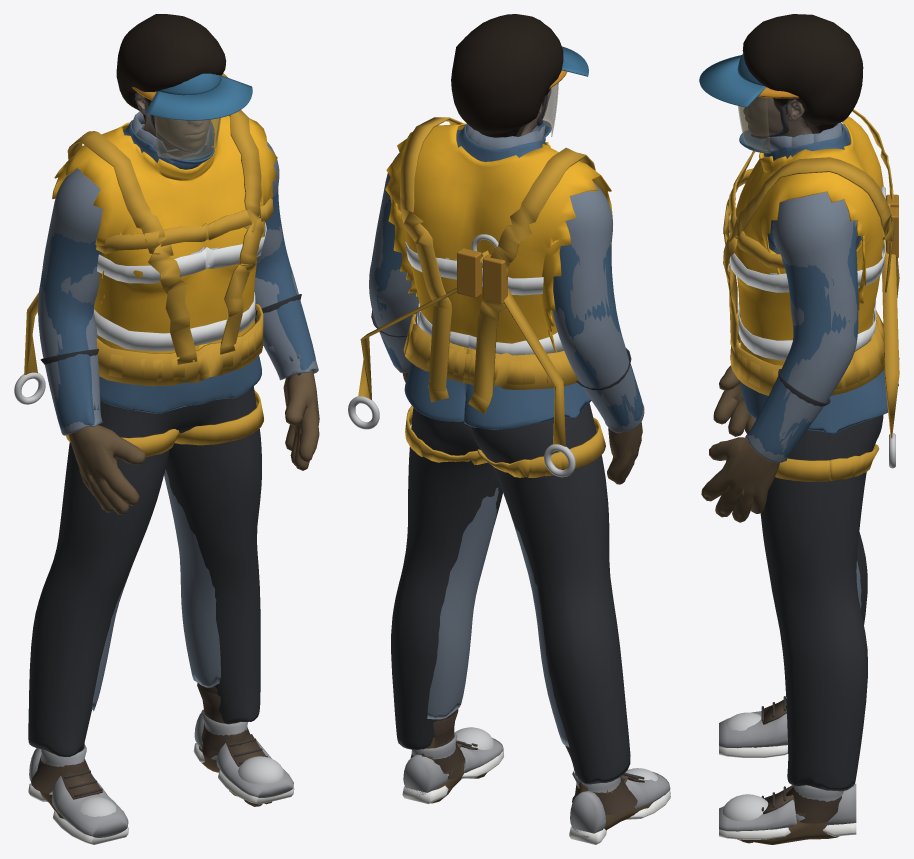
File: personagem.glb
The picture shows the model from 3 angles, left to right: view 1: azimuth 30°, elevation 25°; view 2: azimuth 150°, elevation 25°; view 3: azimuth 270°, elevation 25°; orthographic projection.
Parts seen in each view (by area): view 1: epi_base_roupa, epi_colete_refletivo, epi_paraquedista_talabarte, epi_camisa_algodao, epi_luva_isolante_cobertura, cabelo_medio, epi_base_tenis, epi_cinto_abdominal, epi_botina_biqueira, epi_bone, epi_protetor_facial_arco, corpo (+1 smaller); view 2: epi_base_roupa, epi_colete_refletivo, epi_camisa_algodao, epi_paraquedista_talabarte, cabelo_medio, epi_base_tenis, epi_cinto_abdominal, epi_luva_isolante_cobertura, epi_botina_isolante, epi_botina_biqueira; view 3: epi_base_roupa, epi_colete_refletivo, epi_paraquedista_talabarte, epi_camisa_algodao, cabelo_medio, epi_luva_isolante_cobertura, epi_base_tenis, epi_botina_biqueira, epi_cinto_abdominal, epi_bone, corpo, epi_protetor_facial_arco (+2 smaller).
Boxes of the visible parts, bbox=[...] form: epi_base_roupa: bbox=[28, 120, 315, 756]; epi_colete_refletivo: bbox=[52, 115, 277, 353]; epi_paraquedista_talabarte: bbox=[14, 110, 273, 458]; epi_camisa_algodao: bbox=[38, 111, 318, 711]; epi_luva_isolante_cobertura: bbox=[40, 294, 319, 819]; cabelo_medio: bbox=[116, 14, 226, 119]; epi_base_tenis: bbox=[28, 709, 294, 844]; epi_cinto_abdominal: bbox=[96, 304, 263, 386]; epi_botina_biqueira: bbox=[41, 683, 284, 816]; epi_bone: bbox=[145, 73, 252, 120]; epi_protetor_facial_arco: bbox=[155, 92, 220, 160]; corpo: bbox=[135, 92, 210, 156]; epi_base_roupa: bbox=[371, 120, 643, 784]; epi_colete_refletivo: bbox=[385, 123, 612, 355]; epi_camisa_algodao: bbox=[369, 124, 644, 747]; epi_paraquedista_talabarte: bbox=[348, 117, 605, 477]; cabelo_medio: bbox=[451, 14, 563, 137]; epi_base_tenis: bbox=[402, 733, 670, 844]; epi_cinto_abdominal: bbox=[403, 314, 578, 389]; epi_luva_isolante_cobertura: bbox=[371, 310, 652, 830]; epi_botina_isolante: bbox=[410, 709, 637, 814]; epi_botina_biqueira: bbox=[433, 709, 657, 793]; epi_base_roupa: bbox=[739, 122, 888, 791]; epi_colete_refletivo: bbox=[729, 116, 885, 394]; epi_paraquedista_talabarte: bbox=[723, 109, 899, 481]; epi_camisa_algodao: bbox=[745, 122, 861, 609]; cabelo_medio: bbox=[742, 14, 863, 132]; epi_luva_isolante_cobertura: bbox=[701, 365, 839, 844]; epi_base_tenis: bbox=[719, 711, 856, 839]; epi_botina_biqueira: bbox=[722, 696, 837, 821]; epi_cinto_abdominal: bbox=[730, 310, 884, 395]; epi_bone: bbox=[699, 53, 765, 107]; corpo: bbox=[743, 97, 812, 137]; epi_protetor_facial_arco: bbox=[738, 88, 770, 153].
Bounding box in the file's own units: 0.649 × 1.85 × 0.4275.
Materials: 31 (4 with a texture image).
